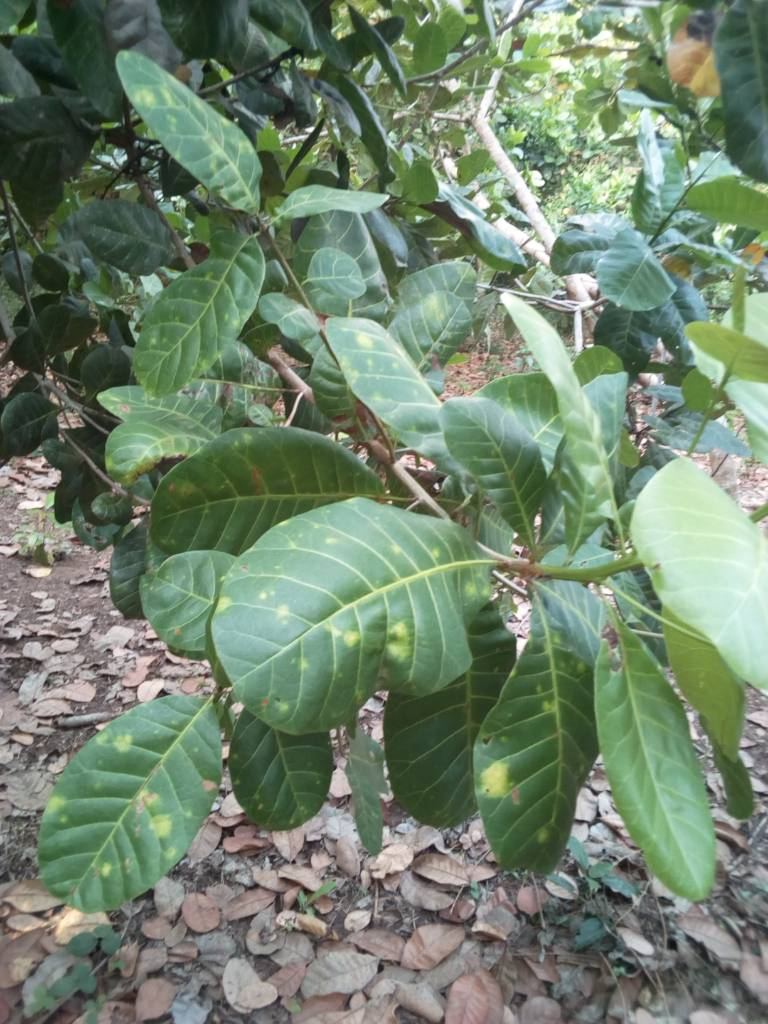Carence minérale: (208, 492, 496, 739), (16, 702, 235, 908), (475, 611, 630, 871), (143, 420, 396, 556), (113, 41, 272, 219), (127, 213, 269, 407), (311, 311, 477, 474)
